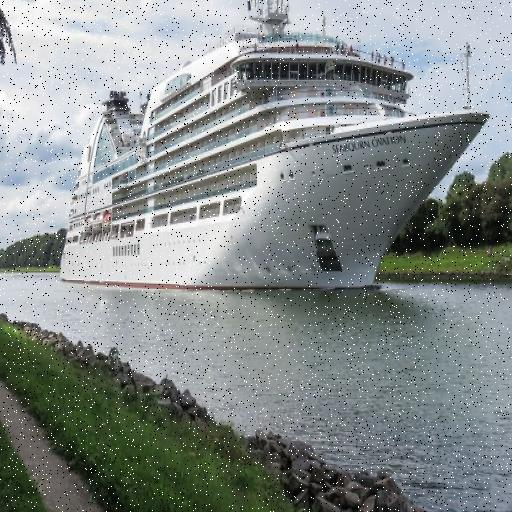cruises: (56, 1, 493, 301)
